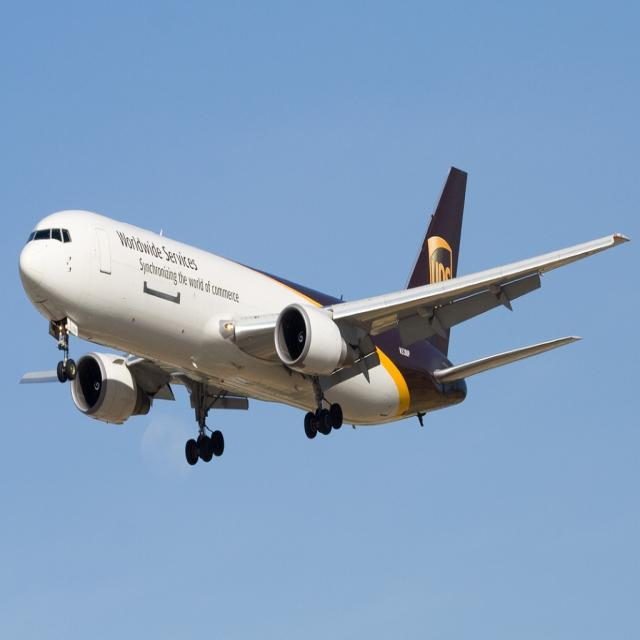ups: (428, 236, 453, 285)
